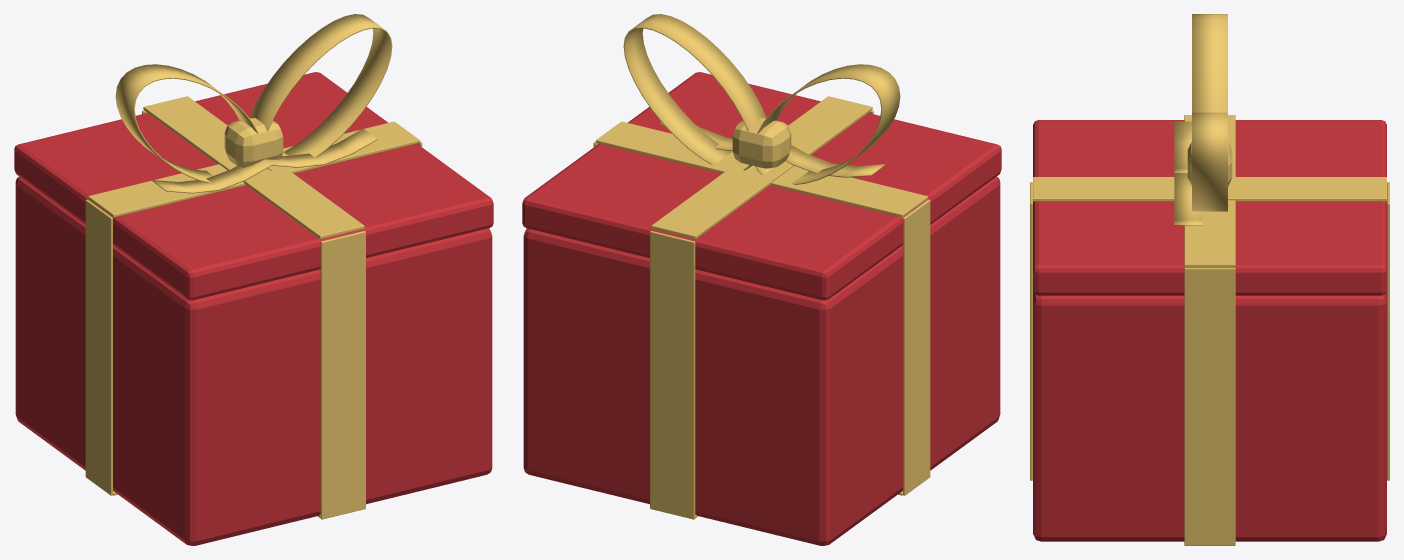
File: present_red_square.glb
The picture shows the model from 3 angles, left to right: view 1: azimuth 30°, elevation 25°; view 2: azimuth 150°, elevation 25°; view 3: azimuth 270°, elevation 25°; orthographic projection.
Visible parts, largest first — view 1: Red square gift box, Red square fitted lid, Ribbon over front and back, Ribbon over left and right, Curved bow loop 1, Ribbon across lid depth, Ribbon across lid width, Curved bow loop 2, Ribbon center knot, Bow ribbon tail.001, Bow ribbon tail; view 2: Red square gift box, Red square fitted lid, Ribbon over front and back.001, Ribbon over left and right, Curved bow loop 1, Ribbon across lid depth, Ribbon across lid width, Curved bow loop 2, Ribbon center knot, Bow ribbon tail; view 3: Red square gift box, Red square fitted lid, Ribbon over left and right.001, Ribbon across lid depth, Curved bow loop 1, Curved bow loop 2, Ribbon across lid width, Bow ribbon tail.001, Ribbon over front and back, Ribbon over front and back.001, Bow ribbon tail.
Boxes of the visible parts, x1=… form: Red square gift box: x1=15, y1=176, x2=492, y2=545; Red square fitted lid: x1=14, y1=72, x2=493, y2=300; Ribbon over front and back: x1=320, y1=231, x2=365, y2=519; Ribbon over left and right: x1=85, y1=199, x2=112, y2=495; Curved bow loop 1: x1=249, y1=14, x2=392, y2=170; Ribbon across lid depth: x1=143, y1=96, x2=364, y2=239; Ribbon across lid width: x1=88, y1=121, x2=419, y2=217; Curved bow loop 2: x1=115, y1=64, x2=258, y2=182; Ribbon center knot: x1=224, y1=118, x2=283, y2=167; Bow ribbon tail.001: x1=265, y1=128, x2=377, y2=167; Bow ribbon tail: x1=152, y1=159, x2=271, y2=193; Red square gift box: x1=523, y1=176, x2=1000, y2=545; Red square fitted lid: x1=522, y1=72, x2=1001, y2=300; Ribbon over front and back.001: x1=650, y1=231, x2=695, y2=519; Ribbon over left and right: x1=903, y1=199, x2=930, y2=495; Curved bow loop 1: x1=623, y1=14, x2=766, y2=170; Ribbon across lid depth: x1=651, y1=96, x2=872, y2=239; Ribbon across lid width: x1=596, y1=121, x2=927, y2=217; Curved bow loop 2: x1=755, y1=64, x2=900, y2=184; Ribbon center knot: x1=732, y1=118, x2=791, y2=168; Bow ribbon tail: x1=786, y1=145, x2=885, y2=177; Red square gift box: x1=1033, y1=291, x2=1386, y2=541; Red square fitted lid: x1=1033, y1=120, x2=1386, y2=295; Ribbon over left and right.001: x1=1184, y1=267, x2=1235, y2=545; Ribbon across lid depth: x1=1033, y1=177, x2=1386, y2=201; Curved bow loop 1: x1=1192, y1=112, x2=1227, y2=211; Curved bow loop 2: x1=1192, y1=14, x2=1227, y2=112; Ribbon across lid width: x1=1184, y1=115, x2=1235, y2=267; Bow ribbon tail.001: x1=1174, y1=173, x2=1202, y2=225; Ribbon over front and back: x1=1030, y1=182, x2=1032, y2=480; Ribbon over front and back.001: x1=1387, y1=182, x2=1389, y2=480; Bow ribbon tail: x1=1174, y1=121, x2=1191, y2=172.
Bounding box in the file's own units: 0.376 × 0.4634 × 0.376.
